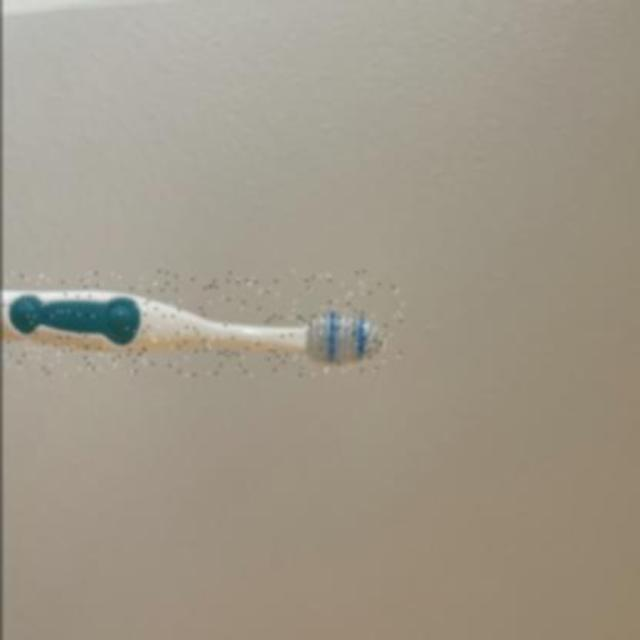toothbrush: (1, 271, 403, 375)
